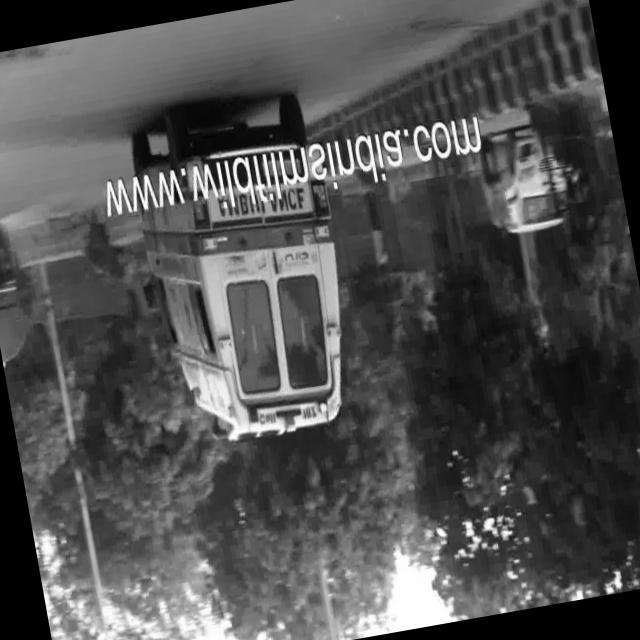ambulance: (141, 191, 380, 470)
